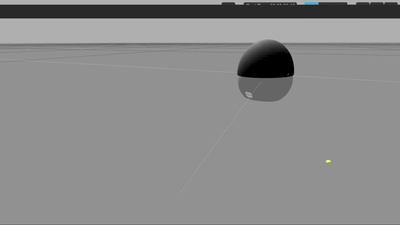mira_robot: (237, 40, 295, 103)
